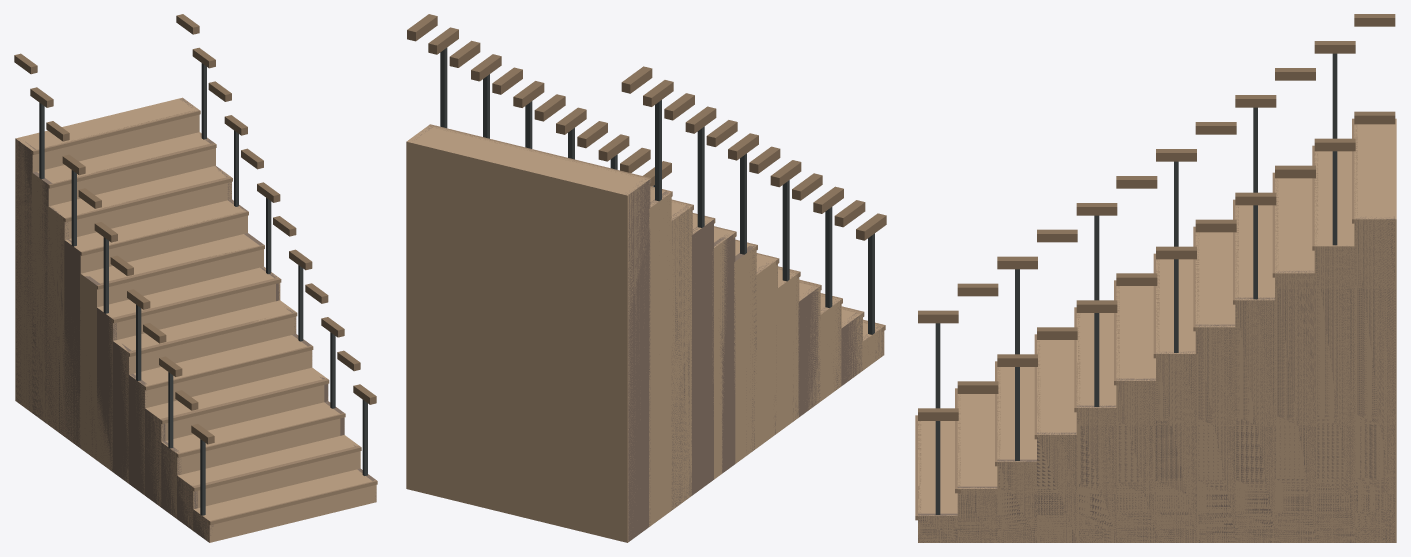
Rendered from stairs.glb.
3 renders of one model, left to right at view 1: azimuth 30°, elevation 25°; view 2: azimuth 150°, elevation 25°; view 3: azimuth 270°, elevation 25°, orthographic. The views are drawn at different scales.
Parts seen in each view (by area): view 1: stairs; view 2: stairs; view 3: stairs.
Boxes of the visible parts, <box> form: stairs: <box>14,14,377,542</box>; stairs: <box>406,14,886,542</box>; stairs: <box>915,14,1396,542</box>.
Size of the model in its own units: 2.02 by 3.96 by 4.04.
